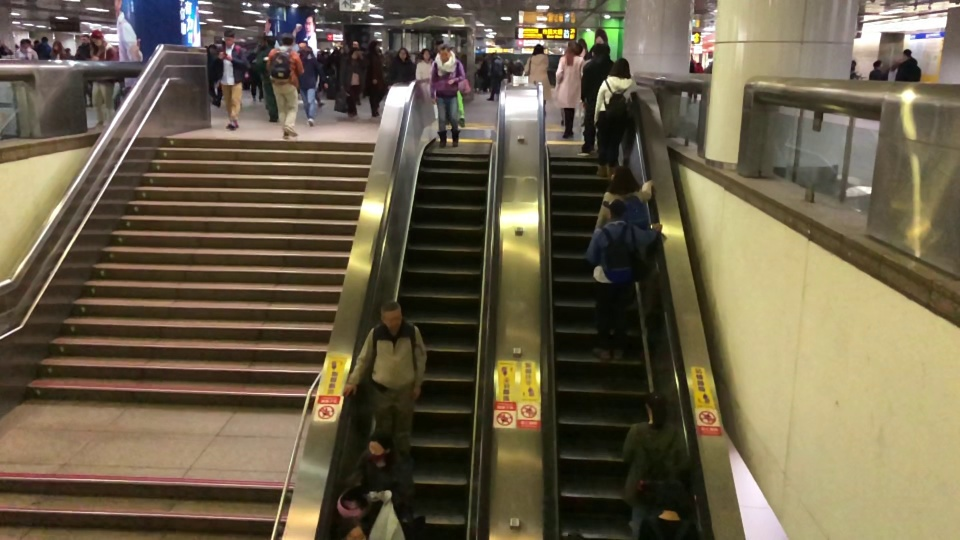person_head: (364, 429, 394, 464), (604, 164, 637, 193), (642, 390, 670, 424), (333, 516, 372, 540), (659, 480, 684, 513), (379, 300, 403, 333), (601, 197, 627, 223), (608, 56, 632, 79), (594, 43, 610, 63), (89, 28, 104, 49), (437, 44, 452, 63), (280, 31, 296, 46), (223, 30, 236, 48), (565, 41, 579, 57), (18, 37, 32, 52), (263, 34, 277, 49), (531, 43, 545, 57), (420, 47, 433, 62), (367, 39, 380, 53), (297, 38, 309, 53), (348, 47, 361, 60), (397, 46, 409, 60), (52, 39, 63, 52), (78, 33, 90, 44), (902, 47, 912, 60), (872, 59, 883, 70)
person_vbox: (338, 301, 427, 468), (582, 198, 663, 359), (620, 392, 692, 536), (340, 427, 416, 519), (593, 56, 640, 178), (592, 164, 654, 240), (574, 43, 615, 157), (263, 32, 304, 140), (211, 30, 252, 131), (429, 43, 466, 147), (636, 482, 702, 540), (86, 29, 119, 130), (553, 42, 587, 138), (298, 39, 329, 127), (522, 43, 552, 121), (253, 34, 279, 122), (363, 40, 389, 119), (73, 33, 98, 107), (339, 46, 363, 119), (387, 46, 417, 87), (894, 49, 922, 82), (413, 46, 434, 82), (14, 37, 38, 60), (867, 57, 889, 81), (49, 40, 72, 61)
